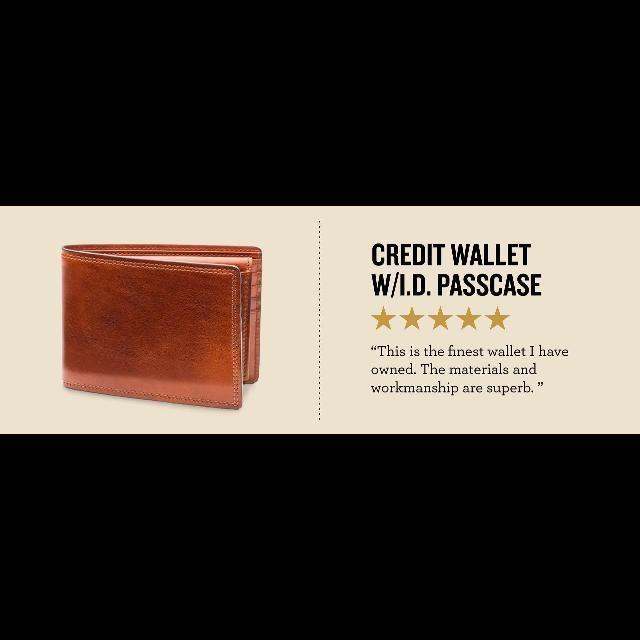Wallet: (62, 244, 262, 408)
